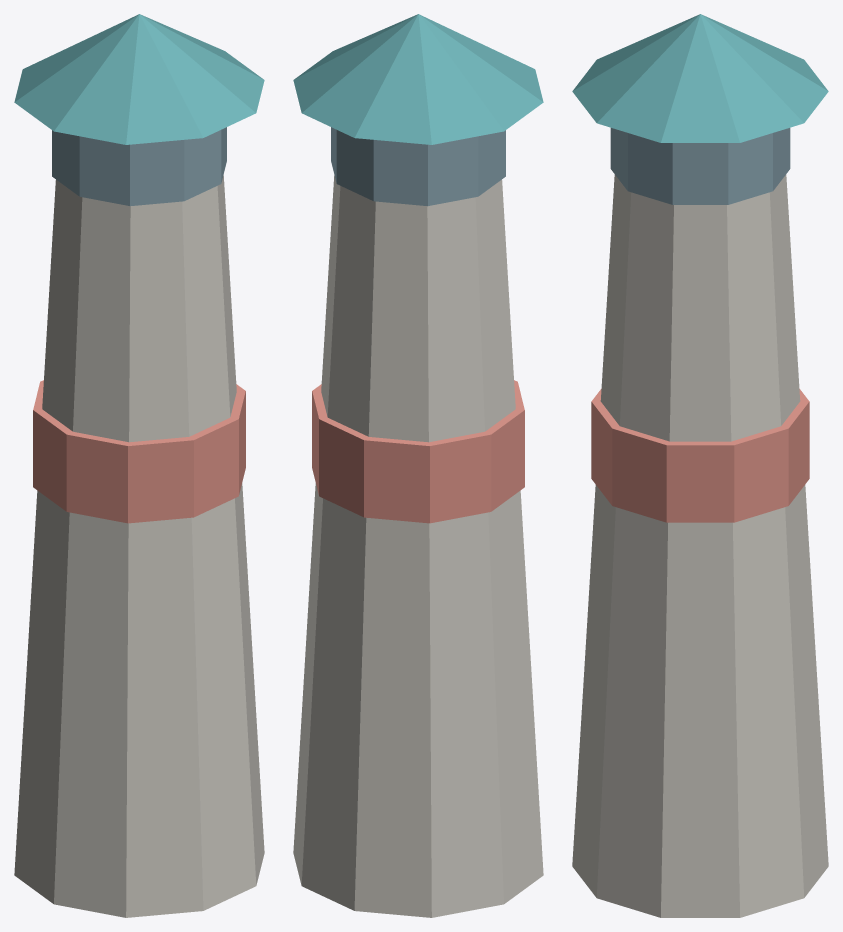
The model's file is lighthouse.glb.
The picture shows the model from 3 angles, left to right: view 1: azimuth 30°, elevation 25°; view 2: azimuth 150°, elevation 25°; view 3: azimuth 270°, elevation 25°; orthographic projection.
Visible parts, largest first — view 1: lighthouse__tower, lighthouse__cap, lighthouse__red_band, lighthouse__lantern; view 2: lighthouse__tower, lighthouse__cap, lighthouse__red_band, lighthouse__lantern; view 3: lighthouse__tower, lighthouse__cap, lighthouse__red_band, lighthouse__lantern.
Boxes of the visible parts, left/top/right/bottom form: lighthouse__tower: left=14, top=175, right=264, bottom=917; lighthouse__cap: left=14, top=14, right=264, bottom=144; lighthouse__red_band: left=33, top=380, right=245, bottom=523; lighthouse__lantern: left=52, top=127, right=226, bottom=206; lighthouse__tower: left=293, top=175, right=543, bottom=917; lighthouse__cap: left=293, top=14, right=543, bottom=144; lighthouse__red_band: left=312, top=380, right=524, bottom=523; lighthouse__lantern: left=331, top=127, right=505, bottom=206; lighthouse__tower: left=572, top=174, right=828, bottom=917; lighthouse__cap: left=572, top=14, right=828, bottom=142; lighthouse__red_band: left=591, top=388, right=809, bottom=522; lighthouse__lantern: left=610, top=128, right=790, bottom=204.
Size of the model in its own units: 5.71 by 22 by 6.
